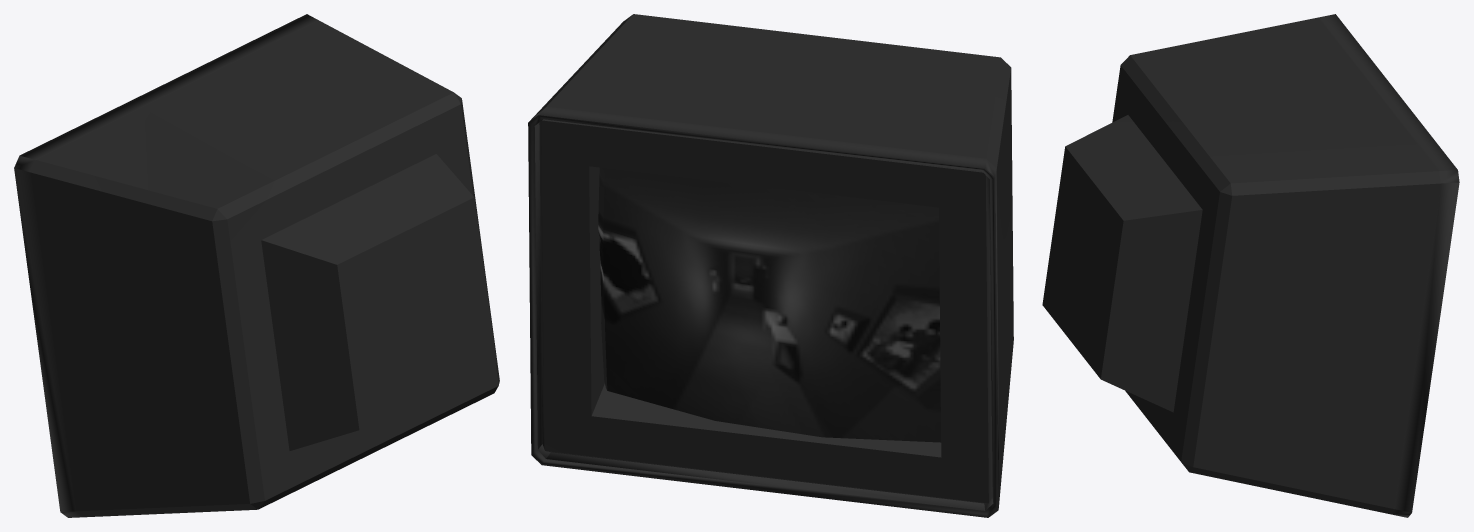
File: Tele5.fbx
The picture shows the model from 3 angles, left to right: view 1: azimuth 30°, elevation 25°; view 2: azimuth 150°, elevation 25°; view 3: azimuth 270°, elevation 25°; orthographic projection. The views are drawn at different scales.
Visible parts, largest first — view 1: Tele.004; view 2: Tele.004; view 3: Tele.004.
Part boxes in pixels (x1,y1,x2,y2): Tele.004: (14, 14, 499, 517); Tele.004: (528, 14, 1013, 517); Tele.004: (1042, 14, 1459, 517).
Bounding box in the file's own units: 62.48 × 51.77 × 56.4.
